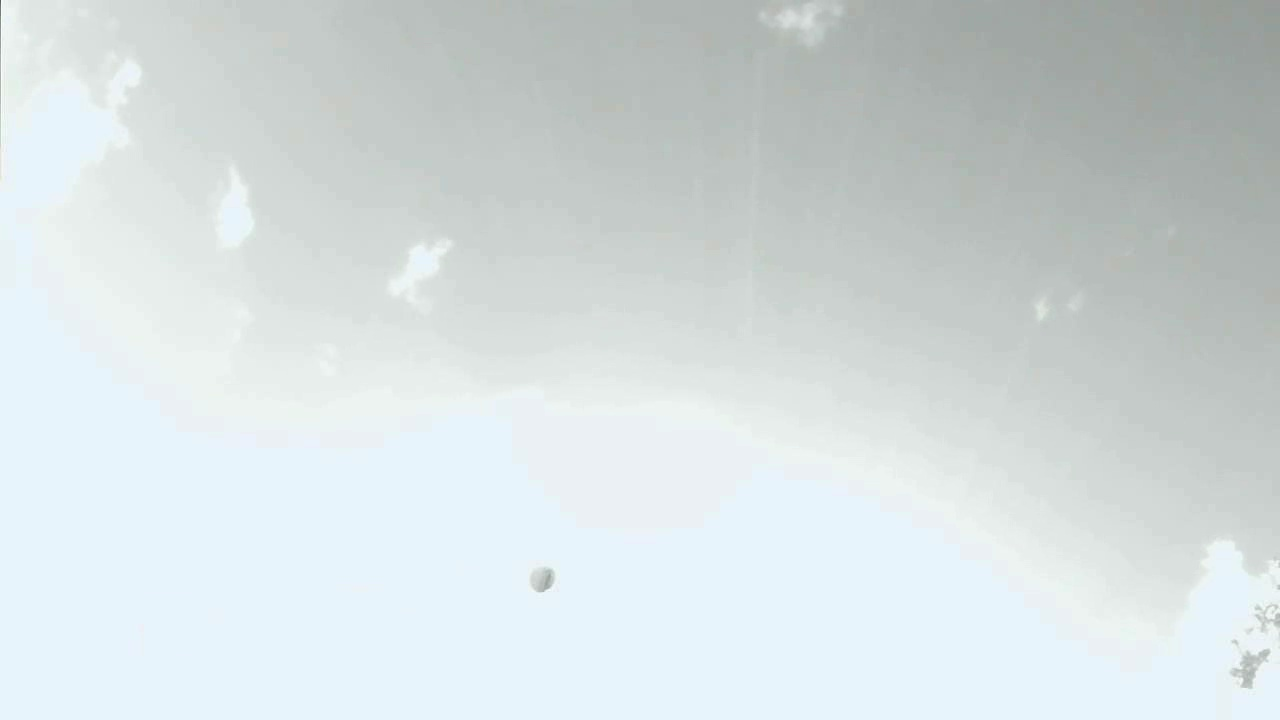Football-Spotter: (530, 566, 554, 591)
